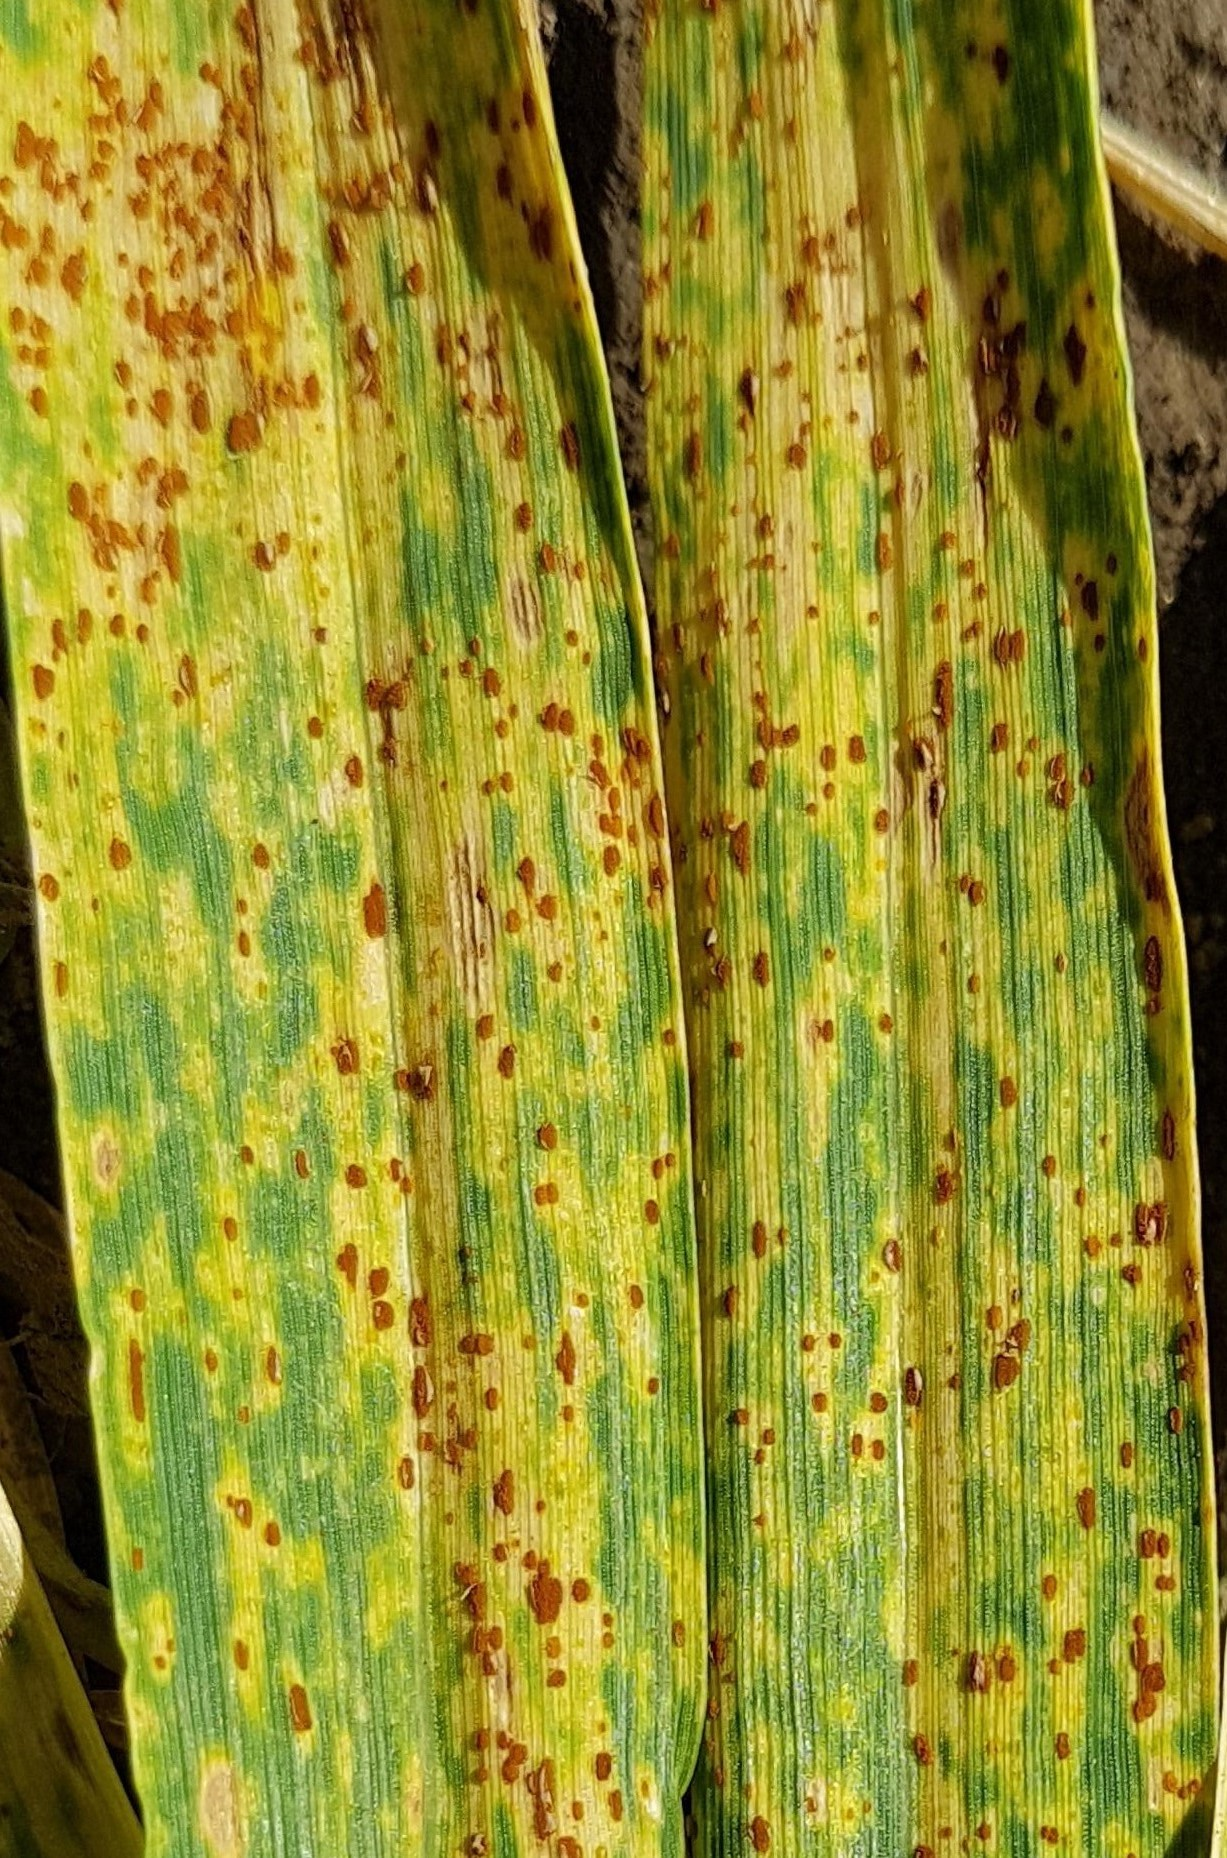Leaf Rust: (30, 64, 716, 1759)
